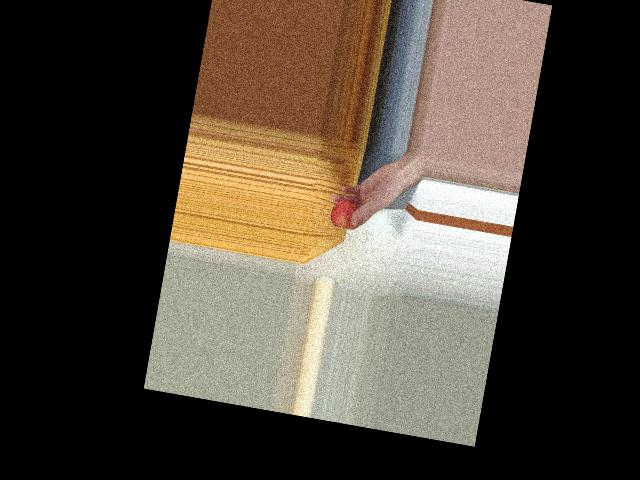apple: (329, 197, 364, 233)
